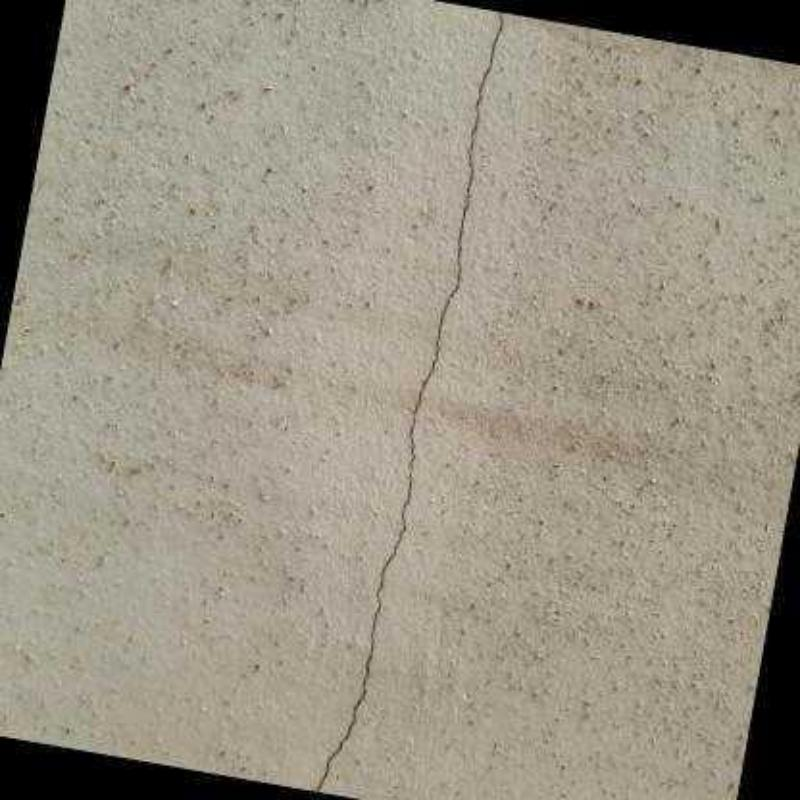pothole: (312, 11, 504, 792)
